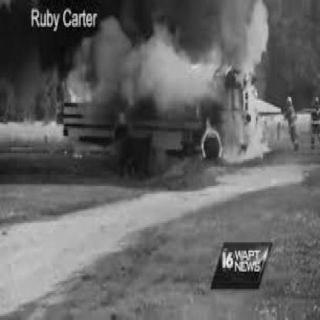Fire: (196, 32, 230, 74)
